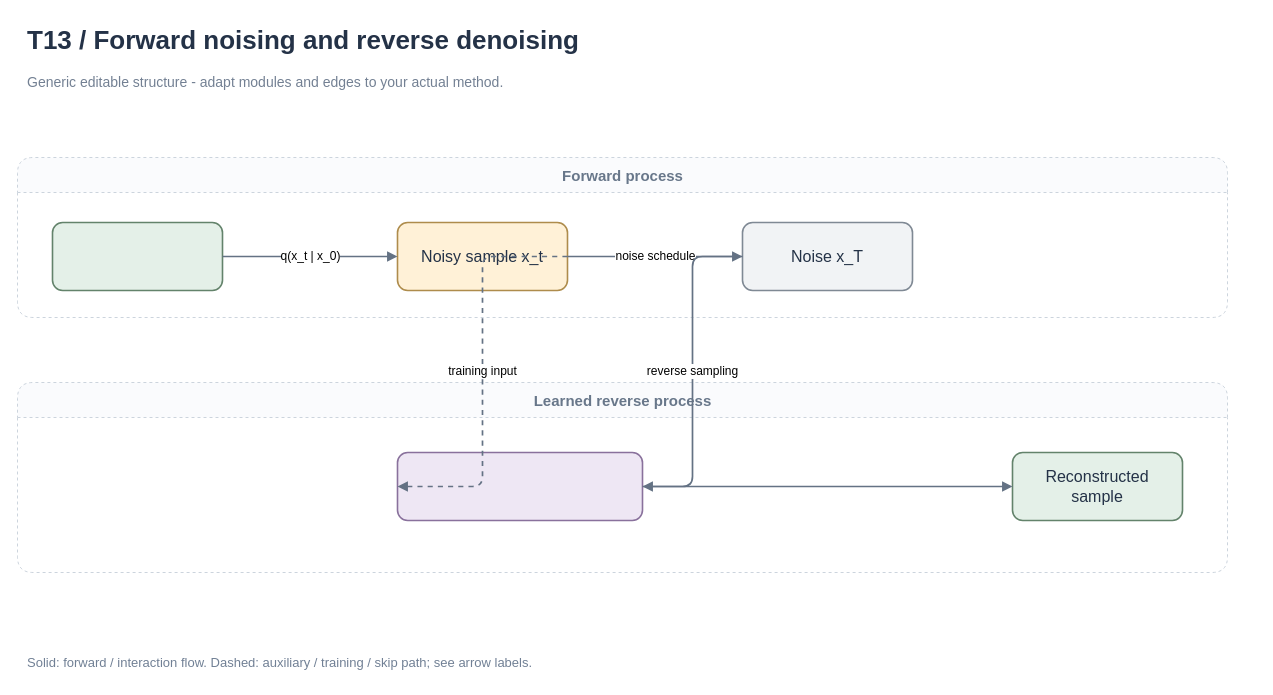
The diagram is 1273 pixels wide and 695 high, and some of its shapes have lost their labels. Here are the shapes that lost their labels. From the top down, the centre of each, then its label:
the point at 137,256: Clean sample x_0
the point at 519,486: Denoiser epsilon_theta condition + time t
